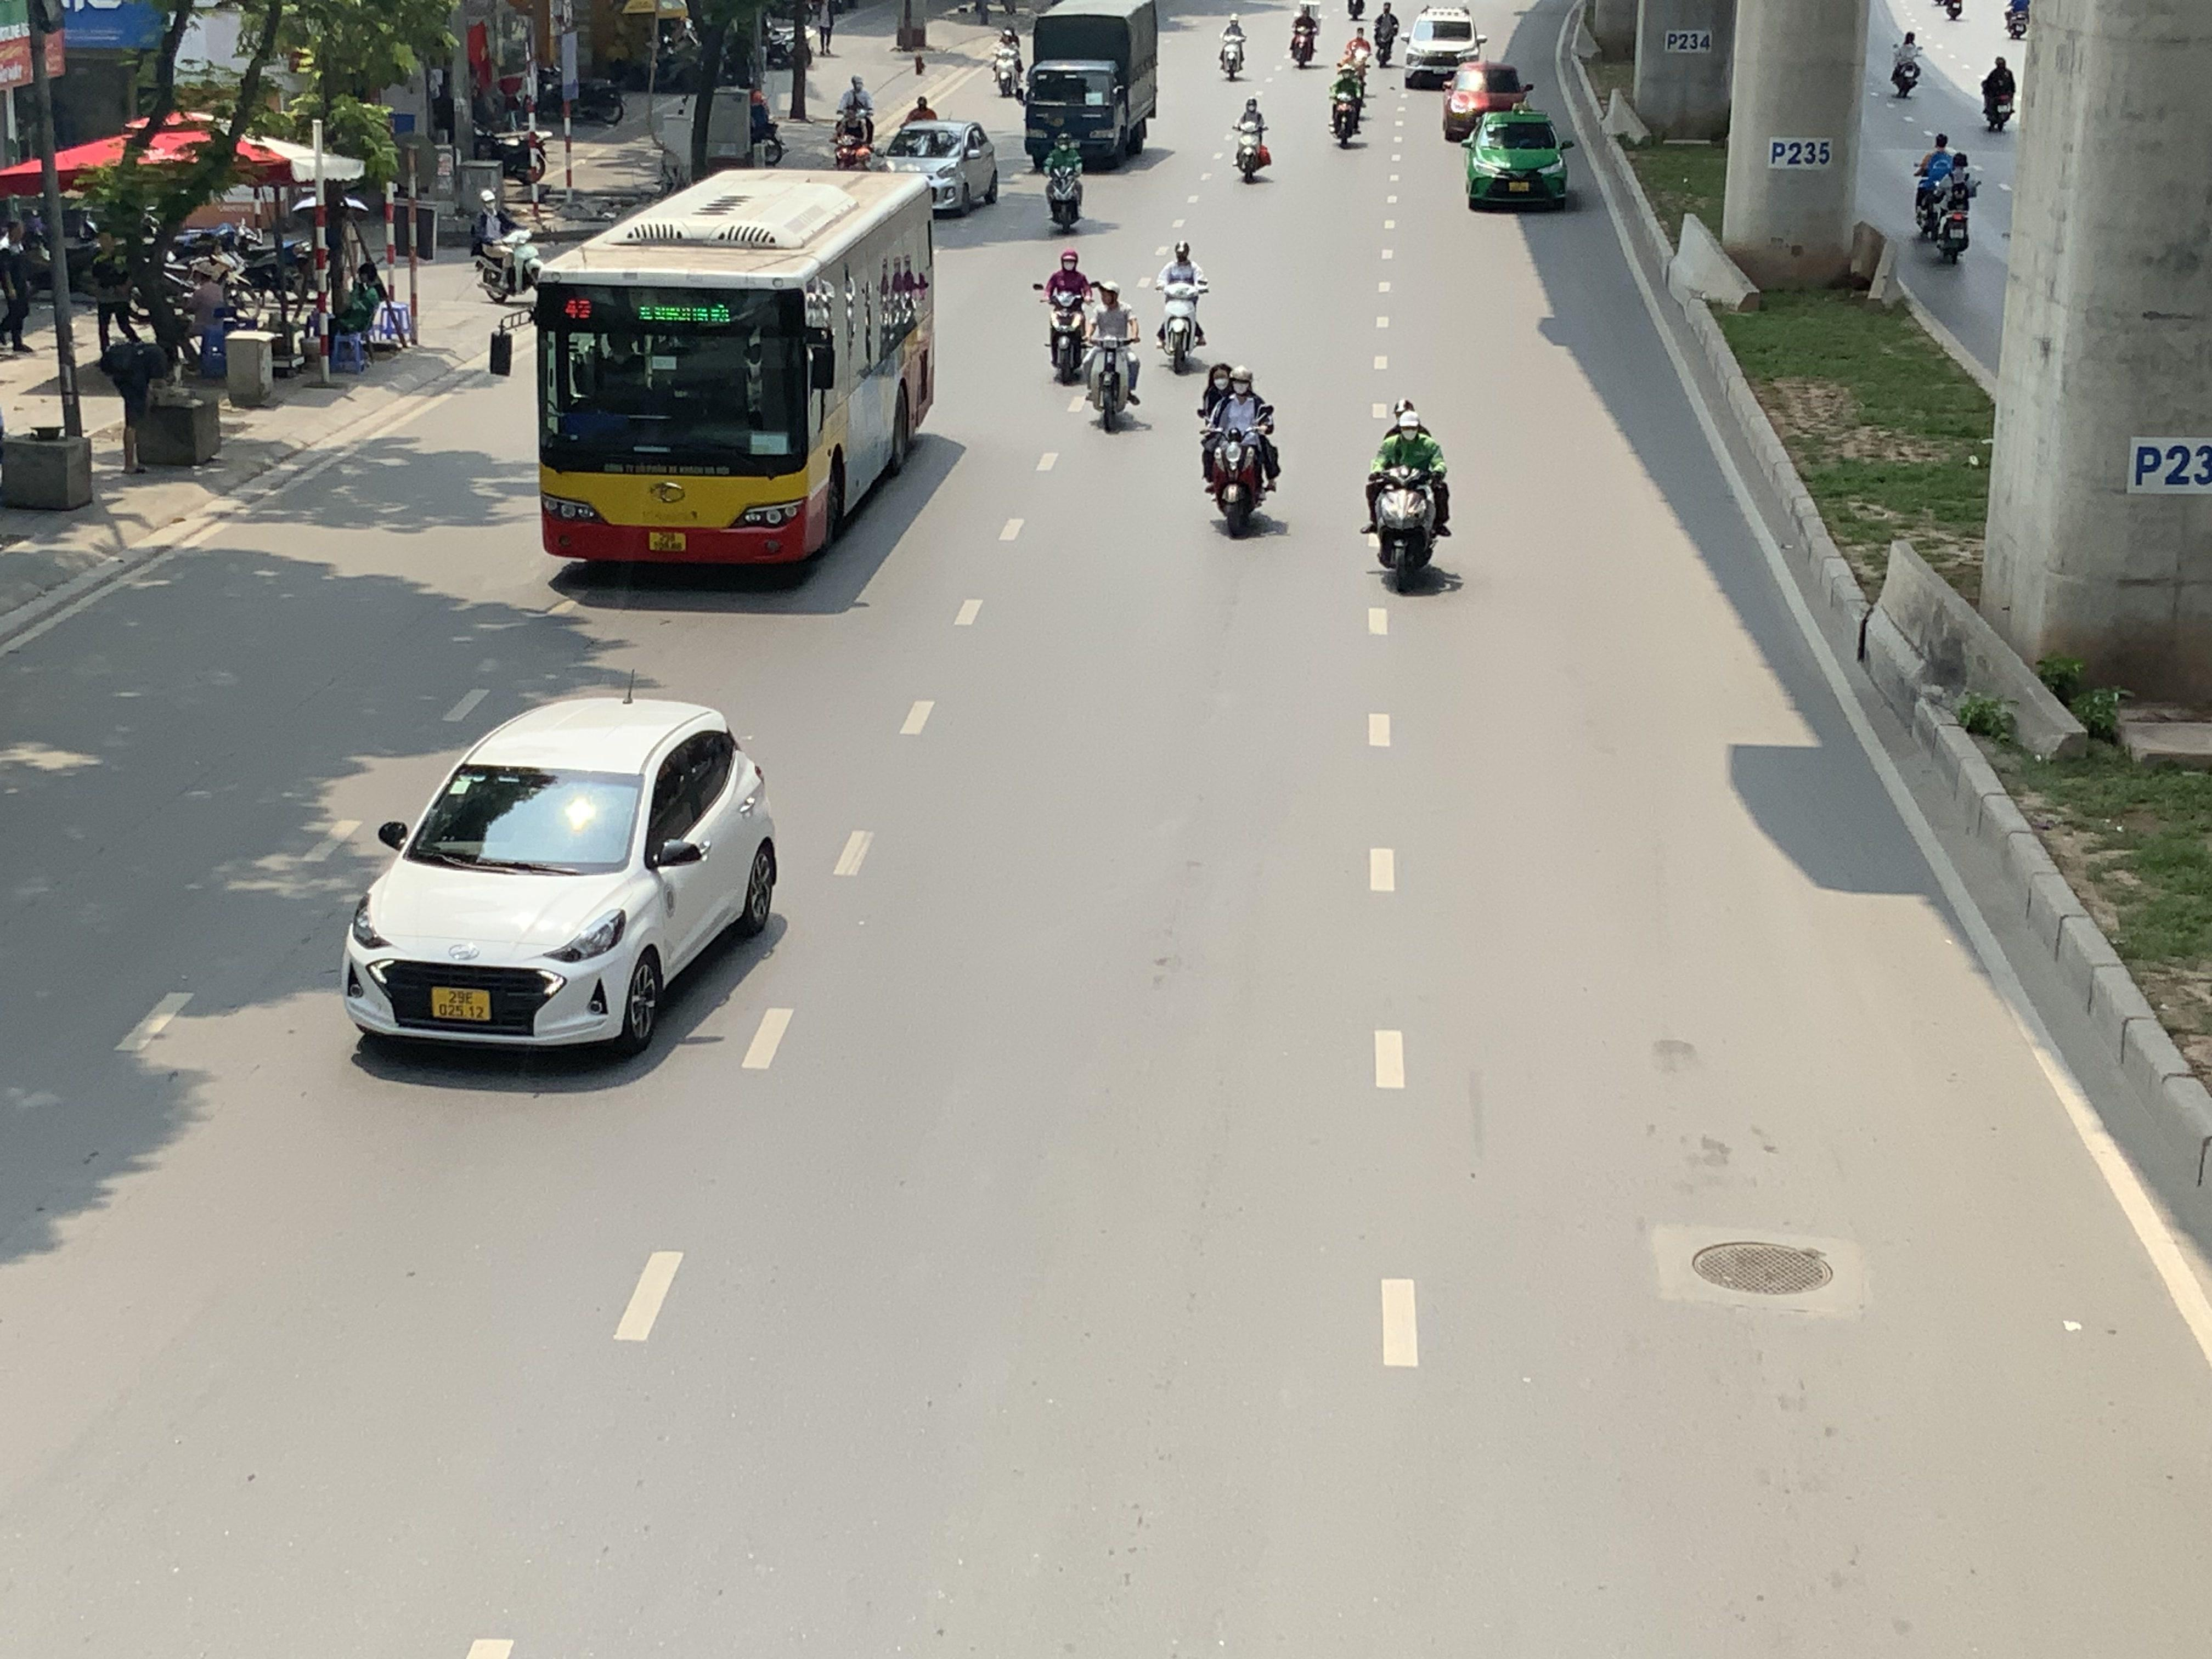BSV: (432, 988, 491, 1021), (650, 532, 686, 551)
bus: (531, 166, 939, 570)
car: (341, 687, 780, 1063), (878, 117, 1000, 218), (1465, 108, 1575, 213), (1440, 59, 1536, 141), (1402, 7, 1487, 89)
motorbike: (1364, 399, 1453, 594), (1198, 362, 1280, 538), (1082, 281, 1144, 434), (1912, 131, 1977, 265), (1036, 247, 1096, 383), (1153, 239, 1211, 375), (474, 200, 540, 303), (1043, 127, 1085, 234), (831, 75, 878, 157), (1329, 56, 1369, 148), (1231, 96, 1273, 183), (829, 96, 876, 169), (1980, 54, 2019, 134), (747, 87, 786, 166), (1888, 26, 1925, 101), (989, 26, 1024, 98), (1289, 0, 1322, 68), (1217, 12, 1249, 82), (1369, 3, 1399, 68), (2003, 0, 2033, 40)
truck: (1021, 0, 1160, 171)
